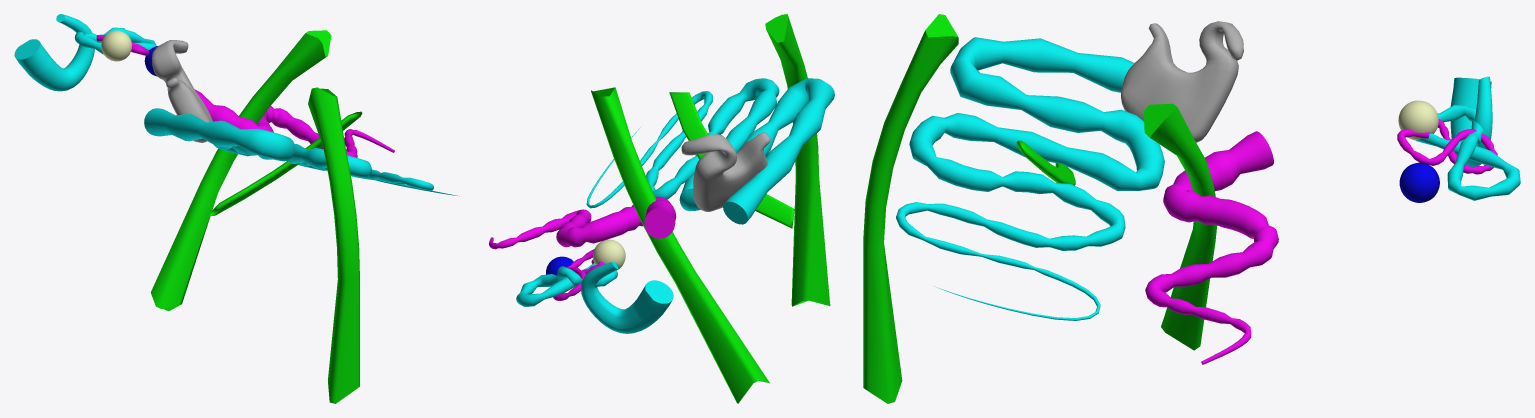
The model's file is organe_Low_01.fbx.
The picture shows the model from 3 angles, left to right: view 1: azimuth 30°, elevation 25°; view 2: azimuth 150°, elevation 25°; view 3: azimuth 270°, elevation 25°; orthographic projection. The views are drawn at different scales.
Visible parts, largest first — view 1: organe3; view 2: organe3; view 3: organe3.
Boxes of the visible parts, left/top/right/bottom form: organe3: left=14, top=14, right=459, bottom=403; organe3: left=489, top=14, right=834, bottom=403; organe3: left=863, top=14, right=1520, bottom=403.
Bounding box in the file's own units: 0.4503 × 0.4587 × 0.7191.
